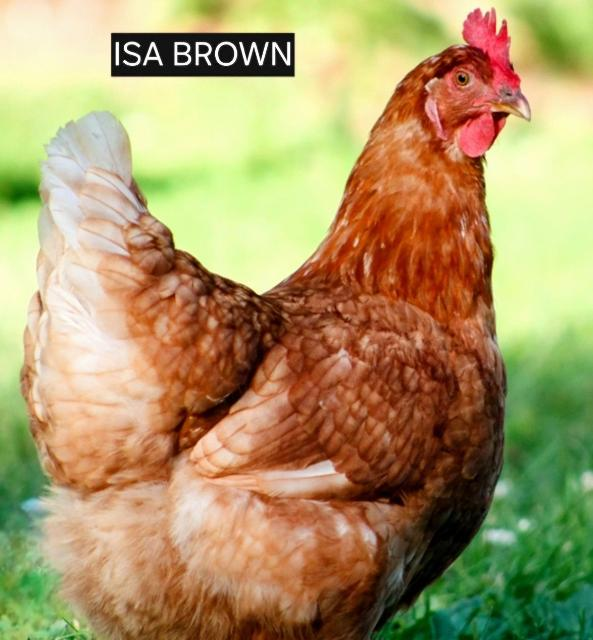Chicken: (21, 7, 533, 640)
